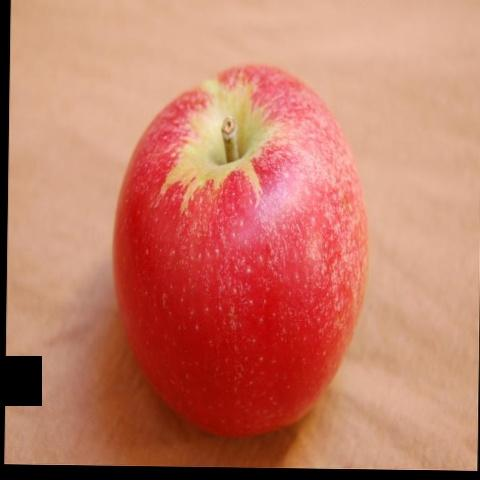red apple: (110, 55, 373, 439)
